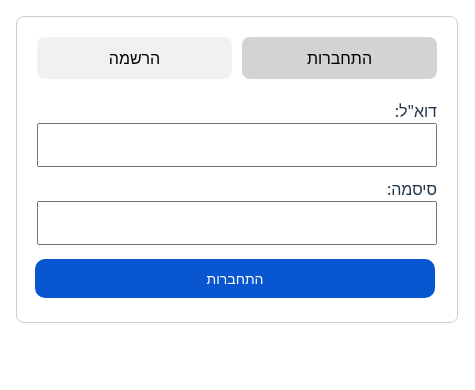
Auth login flow › shows server error on login failure
Type "x@e.com" into the field labelled "דוא\"ל:".
click(237, 145); type("x@e.com")  # box top-left (37, 123), bottom-right (437, 167)
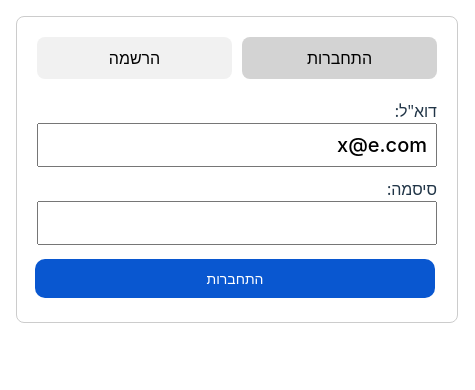
Type "pw" into the password field labelled "סיסמה:".
click(237, 223); type("pw")  # box top-left (37, 201), bottom-right (437, 245)
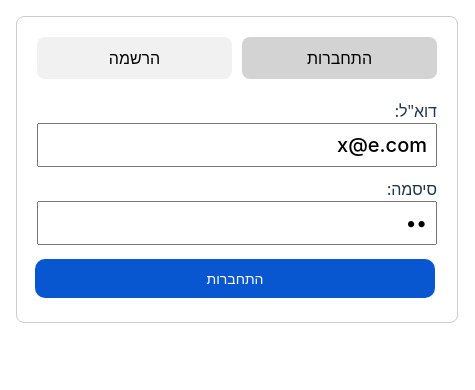
Click the button "התחברות".
click(235, 278)  # box top-left (35, 259), bottom-right (435, 298)
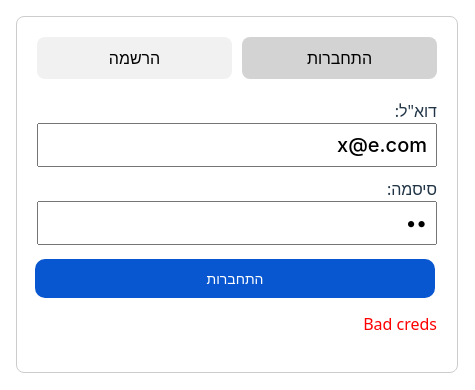
Result: the text "Bad creds" is shown at top-left (363, 313), bottom-right (437, 335)
